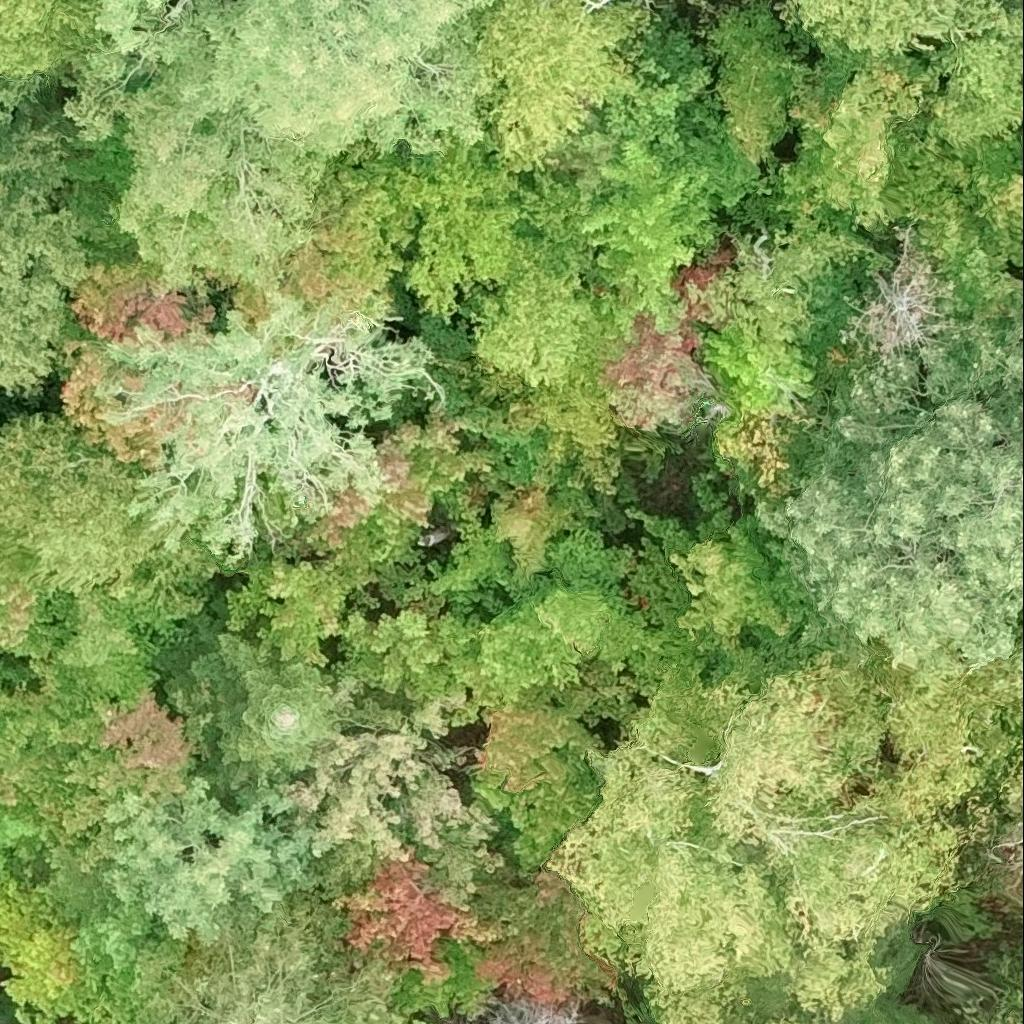crown: (57, 0, 496, 302), (741, 648, 1023, 1023), (92, 289, 435, 568), (753, 358, 1023, 676), (0, 533, 236, 867), (545, 22, 791, 339), (226, 407, 490, 672), (548, 678, 752, 971), (622, 476, 835, 693), (455, 160, 632, 417), (422, 404, 608, 626), (0, 408, 194, 614), (481, 532, 682, 728), (104, 779, 331, 943), (391, 860, 619, 1023), (777, 0, 1023, 145), (705, 656, 892, 845), (470, 0, 662, 180), (630, 836, 808, 1023), (164, 634, 362, 801), (61, 263, 214, 473), (775, 41, 940, 235), (273, 693, 451, 860), (280, 137, 428, 323), (165, 915, 412, 1023), (0, 99, 89, 394), (693, 319, 832, 505), (688, 217, 888, 344), (396, 126, 522, 325), (325, 845, 501, 986), (600, 252, 732, 438), (472, 705, 605, 876), (900, 135, 1023, 319), (839, 224, 980, 374), (328, 611, 503, 727), (389, 735, 502, 900), (705, 2, 817, 168), (917, 303, 1023, 459), (507, 379, 627, 496), (71, 904, 185, 1023), (0, 875, 85, 1023), (0, 0, 108, 83), (97, 0, 171, 53), (461, 1000, 576, 1023), (970, 985, 1023, 1023), (731, 999, 811, 1023), (0, 77, 38, 124), (829, 998, 895, 1023), (1008, 611, 1023, 666), (75, 1011, 95, 1023), (411, 1016, 441, 1023), (1021, 936, 1023, 943), (644, 0, 651, 2)
